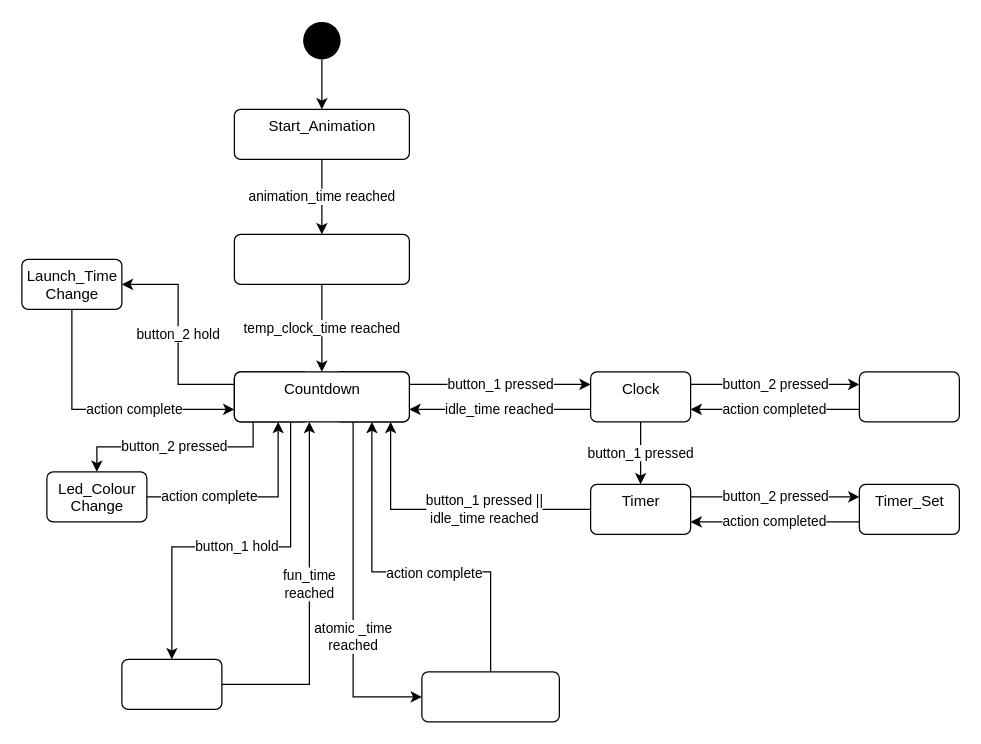
This 981x744 diagram has some shape labels left out. The shapes that lost their labels are listed below. From the top down, each one's centre as x and y in pixels, then its label:
At (321,258): "Temp_Clock".
At (908,396): "Clock_Set".
At (171,683): "Fun_Mode".
At (490,696): "Atomic_Update".
